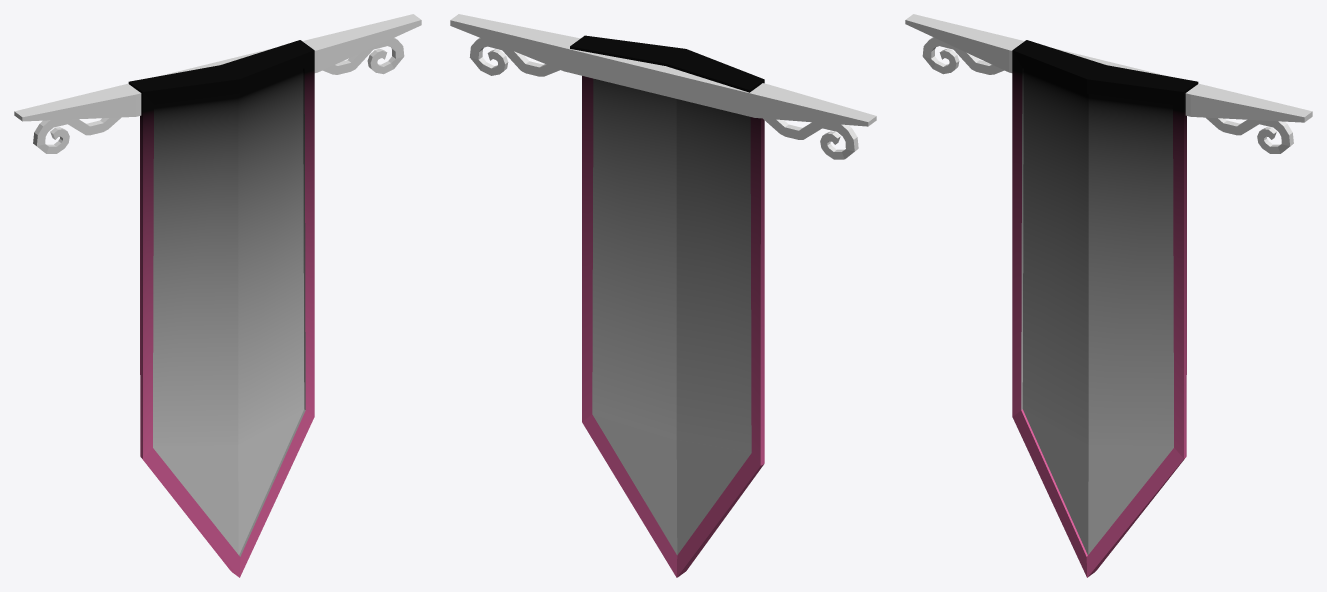
Rendered from Flag.fbx.
3 views of the same model, side by side, from view 1: azimuth 30°, elevation 25°; view 2: azimuth 150°, elevation 25°; view 3: azimuth 330°, elevation 25° (orthographic). The views are drawn at different scales.
Visible parts, largest first — view 1: Plane.002, Cube.002; view 2: Plane.002, Cube.002; view 3: Plane.002, Cube.002.
Part boxes in pixels (bbox=[...]): Plane.002: bbox=[128, 40, 314, 577]; Cube.002: bbox=[14, 14, 421, 153]; Plane.002: bbox=[570, 35, 764, 577]; Cube.002: bbox=[450, 14, 876, 159]; Plane.002: bbox=[1012, 40, 1198, 577]; Cube.002: bbox=[905, 14, 1312, 153].
Size of the model in its own units: 200 by 239 by 22.88.
